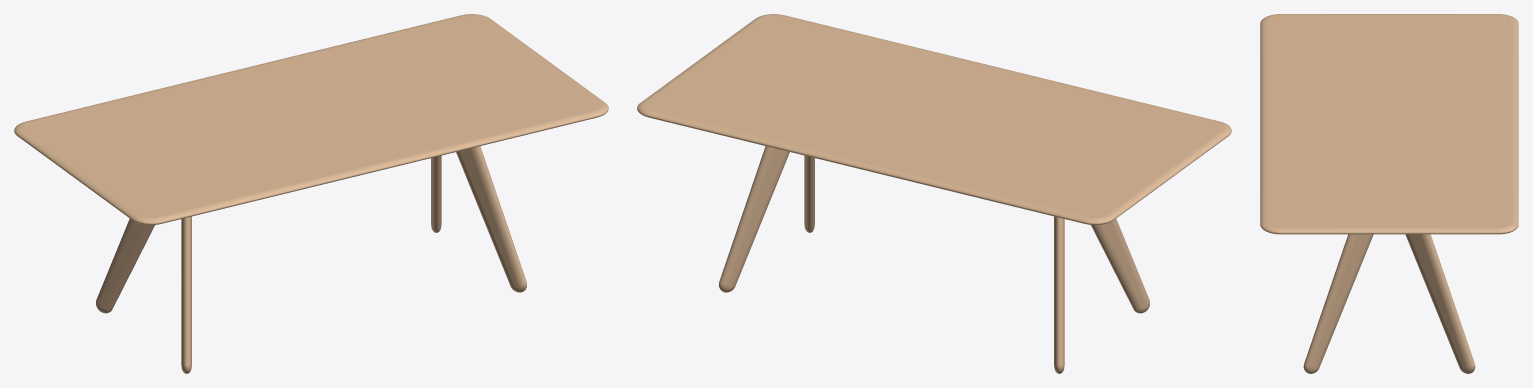
3 renders of one model, left to right at view 1: azimuth 30°, elevation 25°; view 2: azimuth 150°, elevation 25°; view 3: azimuth 270°, elevation 25°, orthographic. The views are drawn at different scales.
Visible parts, largest first — view 1: L_5eccd77d_4819_4949_a019_8c9da1babe90_C1_I3, L_3bc5c882_c710_4514_8cc2_b84f3a28380e_C1_I2, L_e8b72539_7ec2_4b11_ae64_80f5a94a6690_C1_I5, L_eeae86cc_a5de_41c5_bdde_f93fd34f4632_C1_I6, L_9ec2db3d_8aa3_4e44_b9d1_823b706a603a_C1_I4; view 2: L_5eccd77d_4819_4949_a019_8c9da1babe90_C1_I3, L_9ec2db3d_8aa3_4e44_b9d1_823b706a603a_C1_I4, L_eeae86cc_a5de_41c5_bdde_f93fd34f4632_C1_I6, L_e8b72539_7ec2_4b11_ae64_80f5a94a6690_C1_I5, L_3bc5c882_c710_4514_8cc2_b84f3a28380e_C1_I2; view 3: L_5eccd77d_4819_4949_a019_8c9da1babe90_C1_I3, L_3bc5c882_c710_4514_8cc2_b84f3a28380e_C1_I2, L_9ec2db3d_8aa3_4e44_b9d1_823b706a603a_C1_I4.
Boxes of the visible parts, x1,y1,x2,y2 form: L_5eccd77d_4819_4949_a019_8c9da1babe90_C1_I3: (14, 14, 608, 224); L_3bc5c882_c710_4514_8cc2_b84f3a28380e_C1_I2: (456, 146, 526, 292); L_e8b72539_7ec2_4b11_ae64_80f5a94a6690_C1_I5: (96, 218, 154, 313); L_eeae86cc_a5de_41c5_bdde_f93fd34f4632_C1_I6: (181, 216, 191, 373); L_9ec2db3d_8aa3_4e44_b9d1_823b706a603a_C1_I4: (431, 155, 441, 232); L_5eccd77d_4819_4949_a019_8c9da1babe90_C1_I3: (637, 14, 1231, 224); L_9ec2db3d_8aa3_4e44_b9d1_823b706a603a_C1_I4: (719, 146, 789, 292); L_eeae86cc_a5de_41c5_bdde_f93fd34f4632_C1_I6: (1091, 218, 1149, 313); L_e8b72539_7ec2_4b11_ae64_80f5a94a6690_C1_I5: (1054, 216, 1064, 373); L_3bc5c882_c710_4514_8cc2_b84f3a28380e_C1_I2: (804, 155, 814, 232); L_5eccd77d_4819_4949_a019_8c9da1babe90_C1_I3: (1260, 14, 1518, 234); L_3bc5c882_c710_4514_8cc2_b84f3a28380e_C1_I2: (1303, 234, 1373, 373); L_9ec2db3d_8aa3_4e44_b9d1_823b706a603a_C1_I4: (1405, 234, 1475, 373).
Size of the model in its own units: 2 by 0.7499 by 1.
